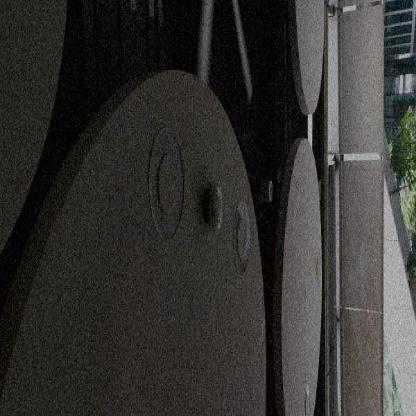light_off: (146, 110, 187, 254), (227, 180, 253, 278)
